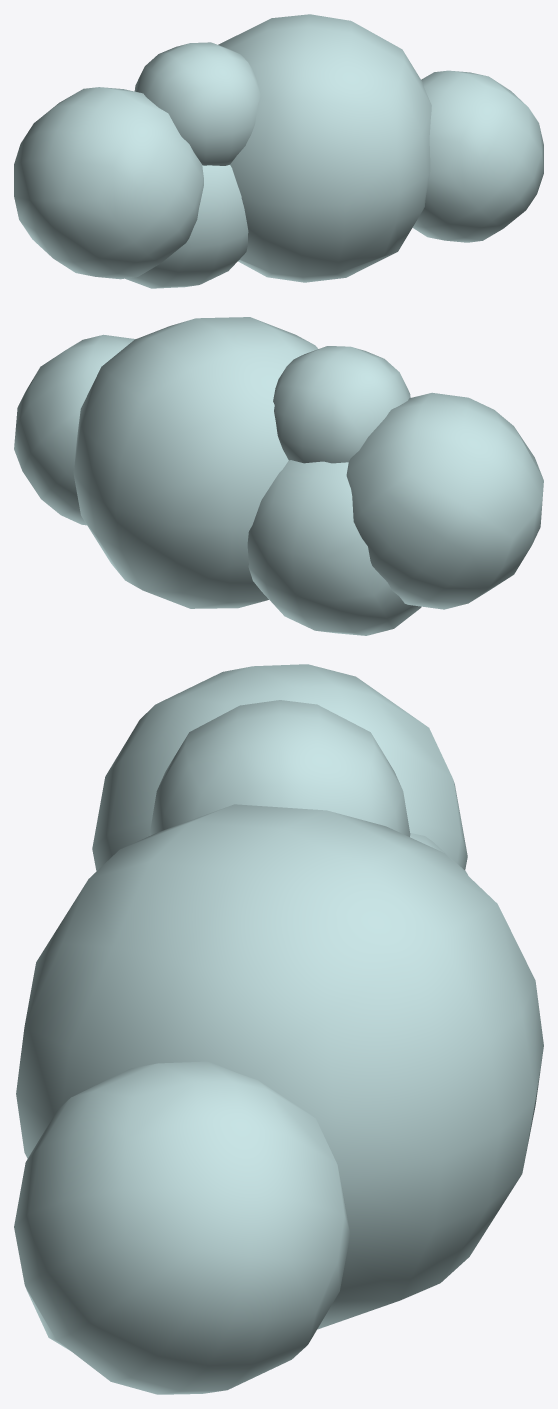
The model's file is atoll_big_cloud.fbx.
3 renders of one model, top to bottom at view 1: azimuth 30°, elevation 25°; view 2: azimuth 150°, elevation 25°; view 3: azimuth 270°, elevation 25°, orthographic. The views are drawn at different scales.
Visible parts, largest first — view 1: pCube16, pCube13, pCube17, pCube15, pCube14; view 2: pCube16, pCube13, pCube14, pCube15, pCube17; view 3: pCube16, pCube17, pCube13, pCube15.
Boxes of the visible parts, x1,y1,x2,y2 form: pCube16: (218,14,431,282); pCube13: (14,87,203,279); pCube17: (412,70,543,242); pCube15: (134,42,260,165); pCube14: (125,165,248,288); pCube16: (73,317,317,608); pCube13: (346,392,543,609); pCube14: (247,460,421,635); pCube15: (273,346,410,463); pCube17: (14,334,135,525); pCube16: (16,804,543,1329); pCube17: (14,1061,350,1394); pCube13: (92,664,467,871); pCube15: (149,700,410,836).
Bounding box in the file's own units: 11.73 × 5.74 × 5.66.
